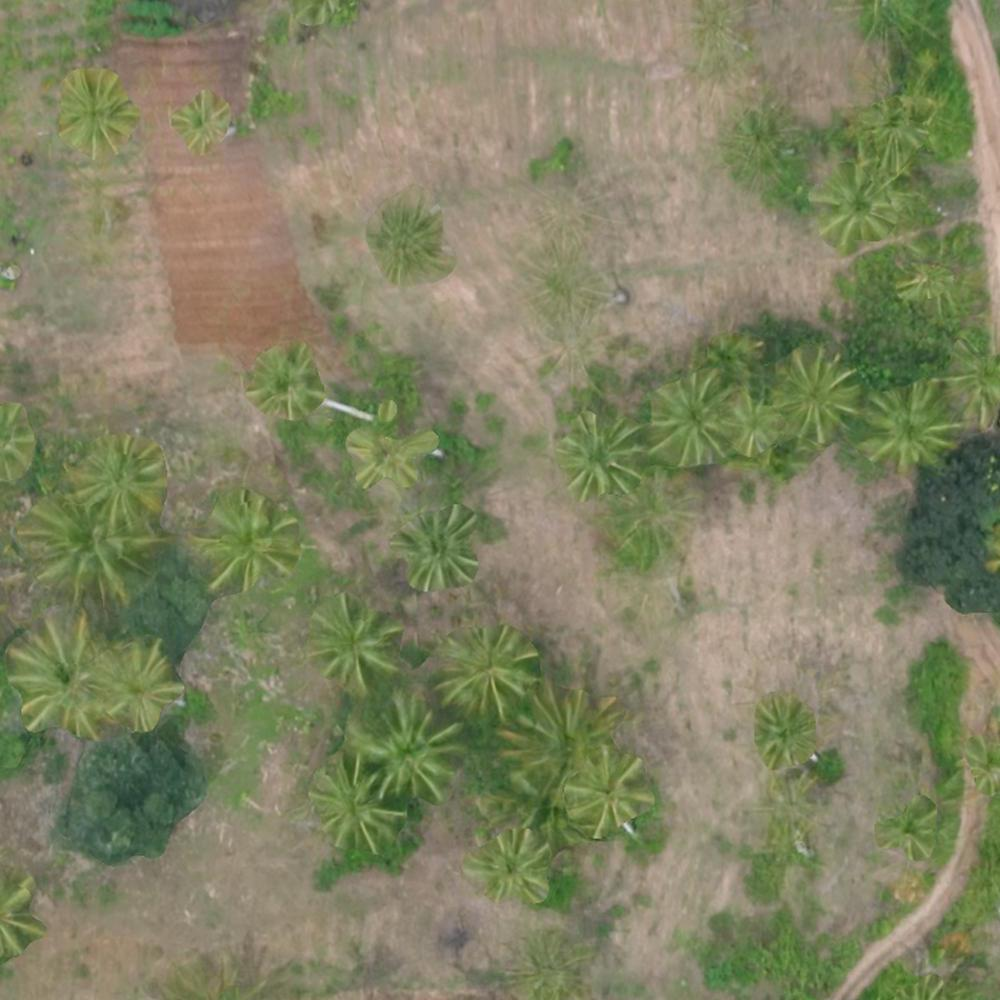Palm: (14, 619, 122, 729), (33, 490, 146, 595), (505, 686, 617, 786), (357, 696, 460, 798), (200, 495, 291, 592), (307, 597, 400, 683), (313, 763, 401, 850), (441, 631, 532, 715), (101, 639, 181, 732), (559, 416, 646, 500), (772, 351, 858, 435), (810, 165, 904, 241), (868, 385, 955, 463), (394, 511, 478, 591), (53, 72, 137, 151), (81, 438, 164, 516), (650, 382, 731, 460), (567, 753, 649, 829), (475, 831, 549, 904), (345, 416, 418, 489), (244, 347, 320, 413), (369, 211, 438, 275), (720, 394, 785, 458), (755, 701, 814, 761), (169, 96, 232, 143)
